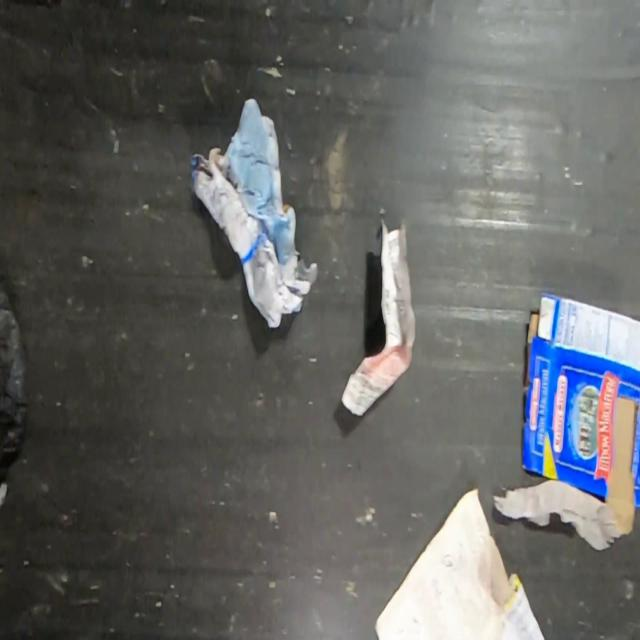cardboard: (521, 290, 640, 534)
soft_plastic: (0, 281, 28, 469)
